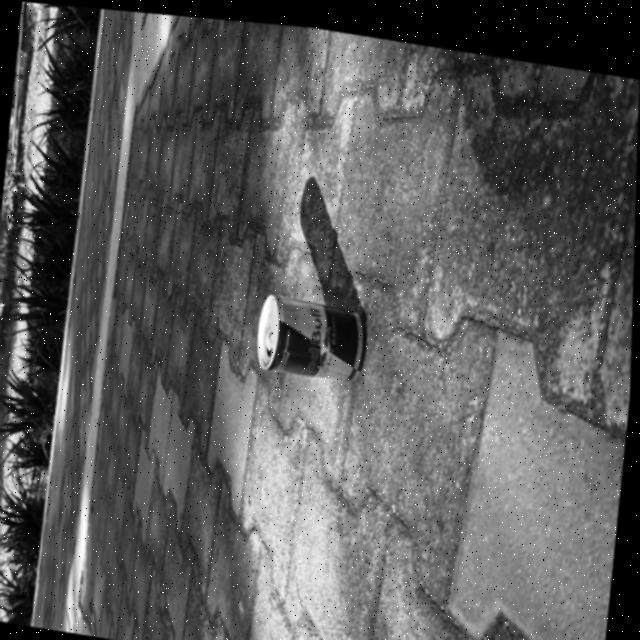Redbul: (256, 288, 373, 380)
